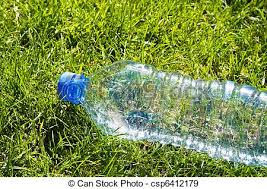plastic_bottle: (55, 59, 267, 171)
